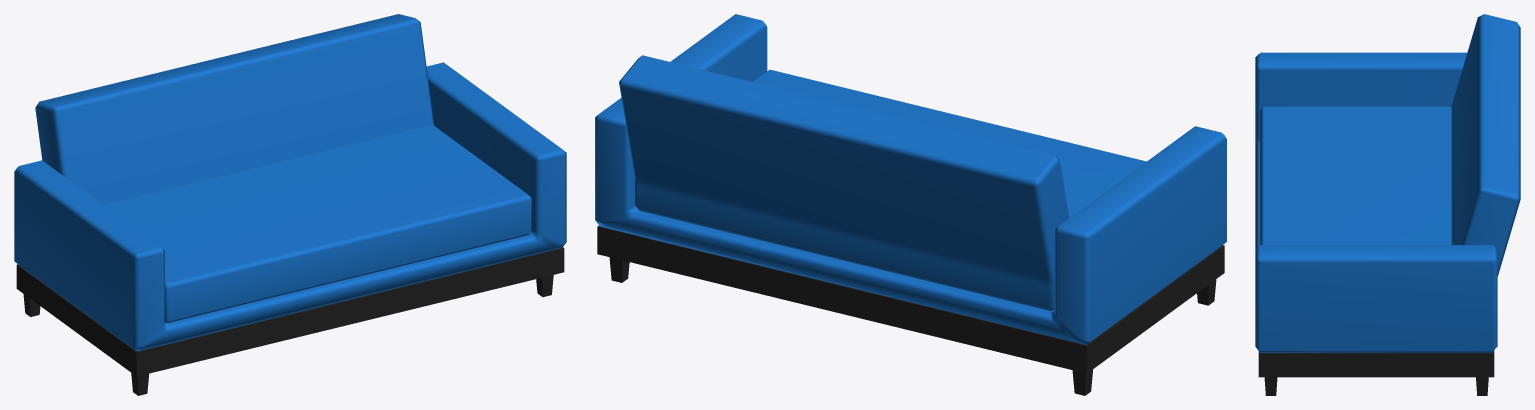
The model's file is sofa_027.fbx.
3 renders of one model, left to right at view 1: azimuth 30°, elevation 25°; view 2: azimuth 150°, elevation 25°; view 3: azimuth 270°, elevation 25°, orthographic. The views are drawn at different scales.
Visible parts, largest first — view 1: sofa_027; view 2: sofa_027; view 3: sofa_027.
Boxes of the visible parts, x1=… form: sofa_027: x1=14, y1=14, x2=566, y2=395; sofa_027: x1=595, y1=14, x2=1226, y2=395; sofa_027: x1=1255, y1=14, x2=1520, y2=395.
Size of the model in its own units: 277 by 150 by 123.
